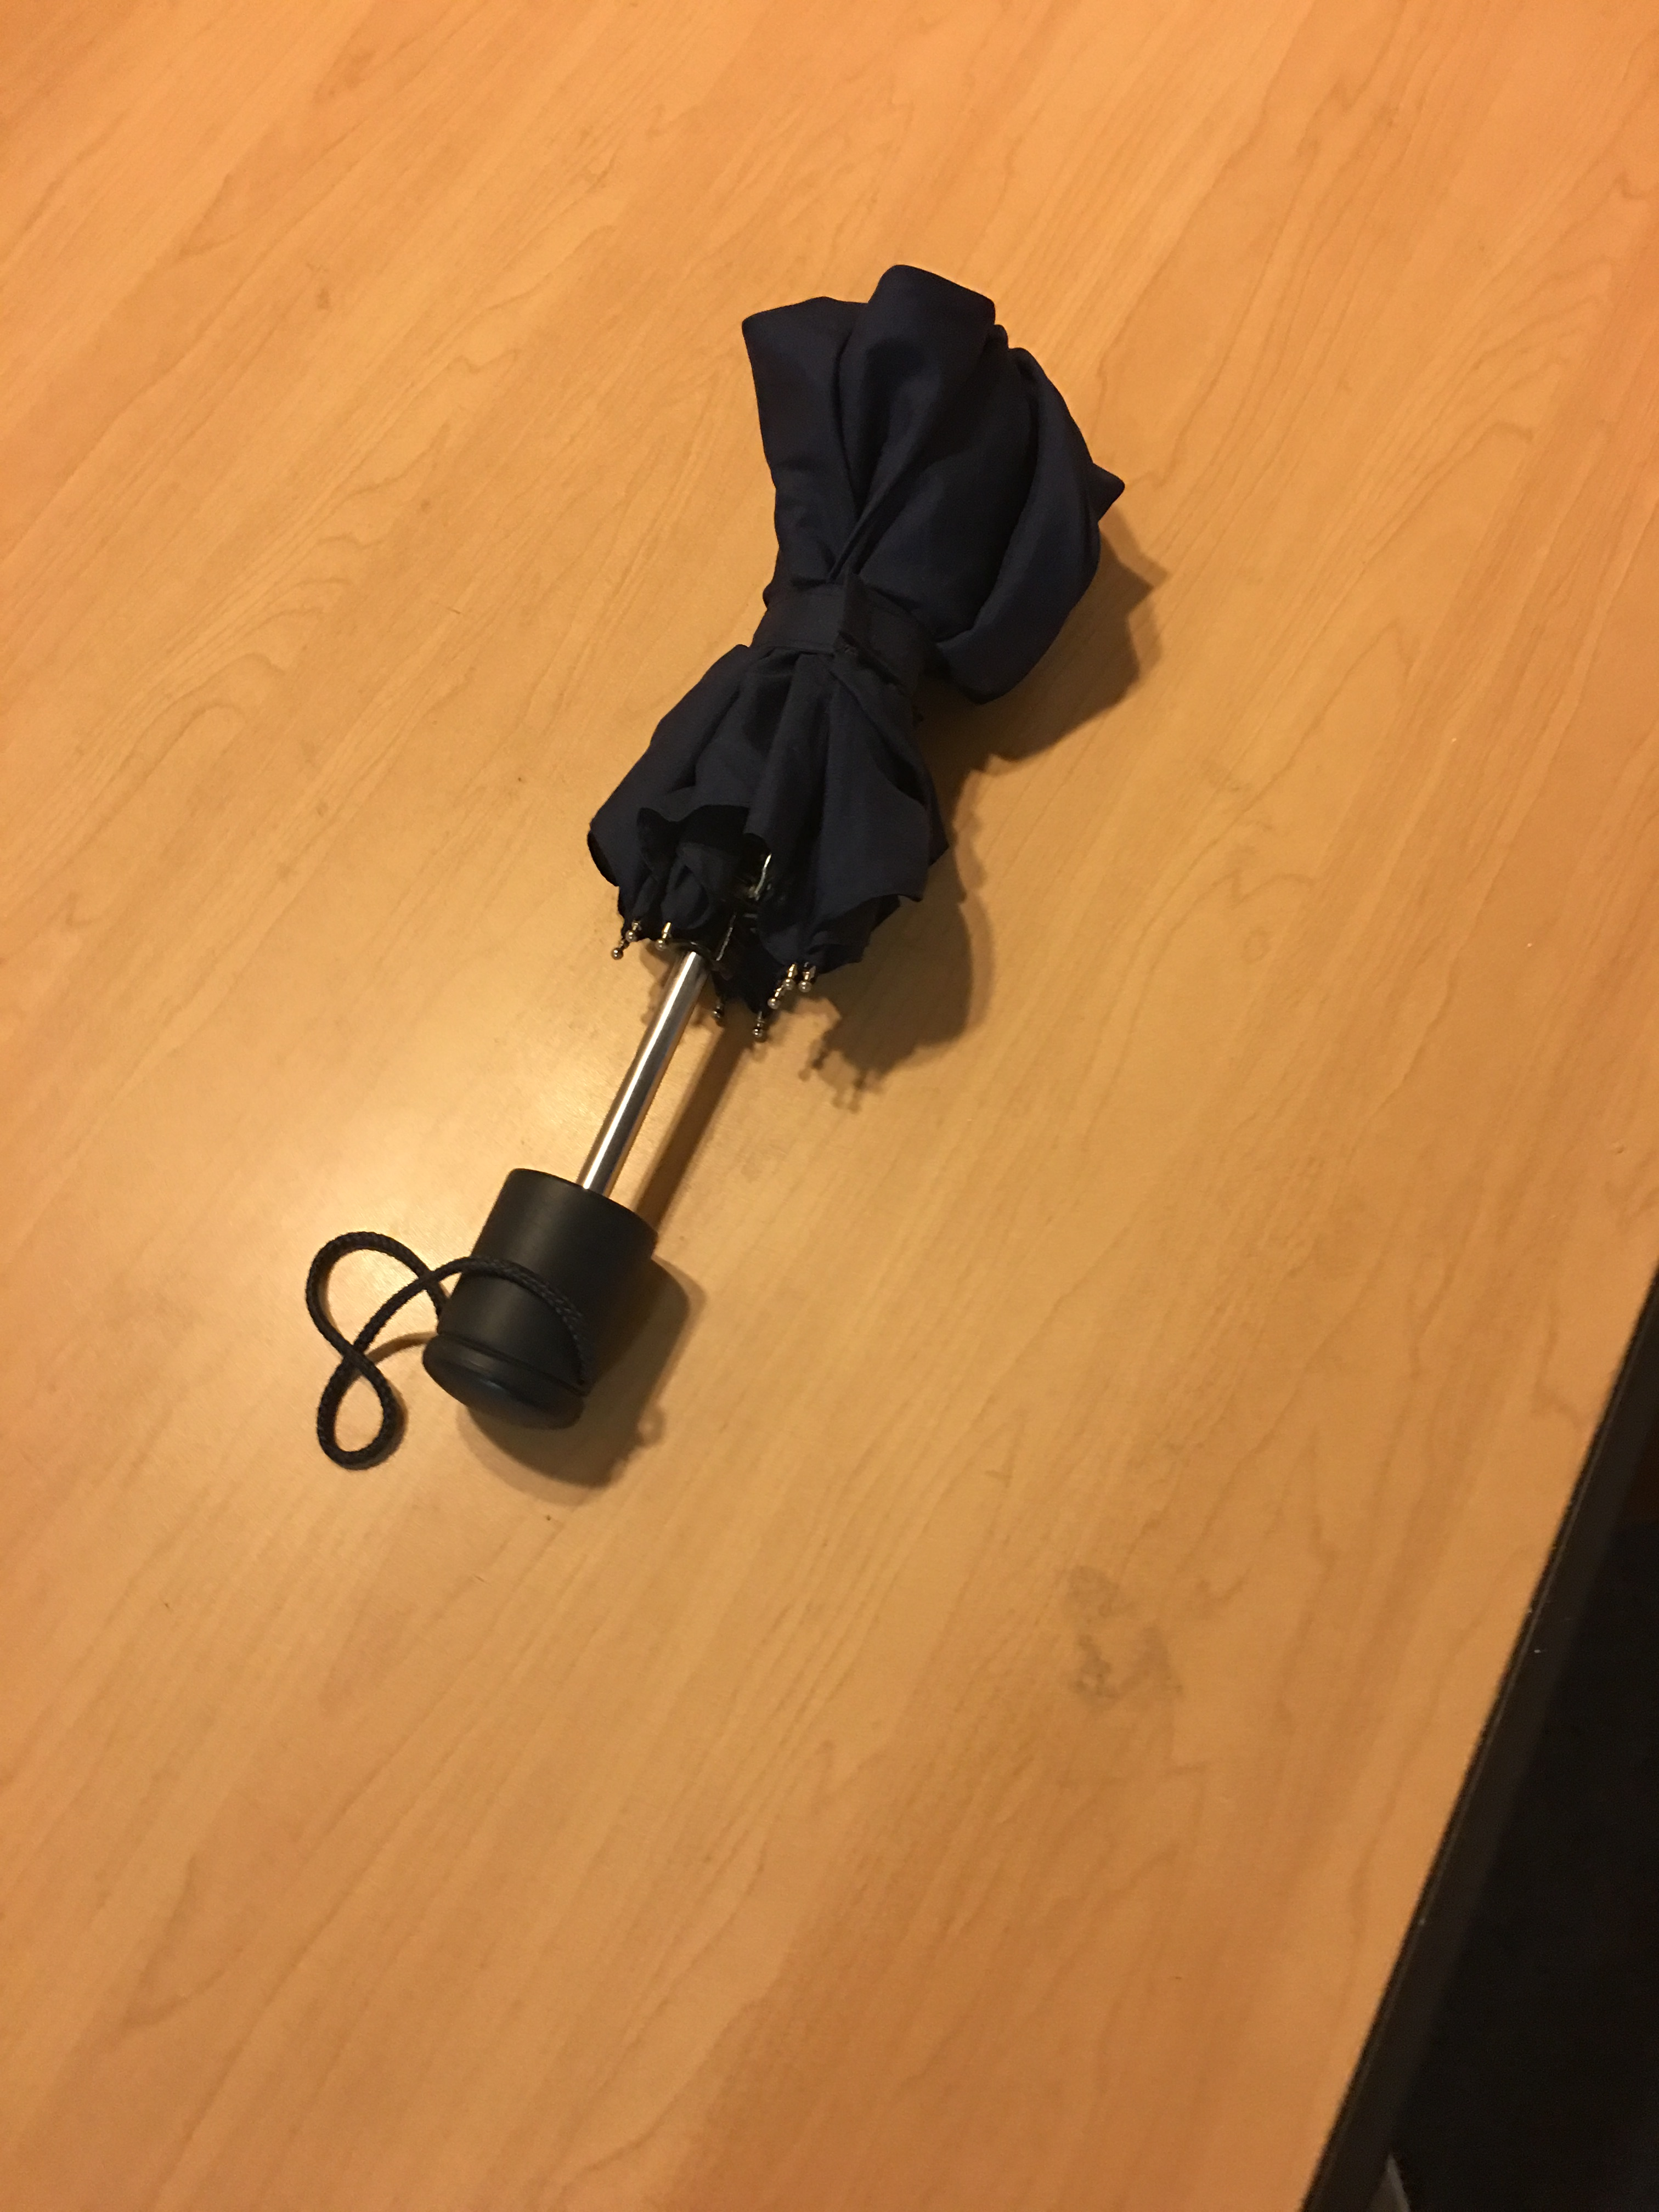Umbrella: (321, 261, 1195, 1477)
